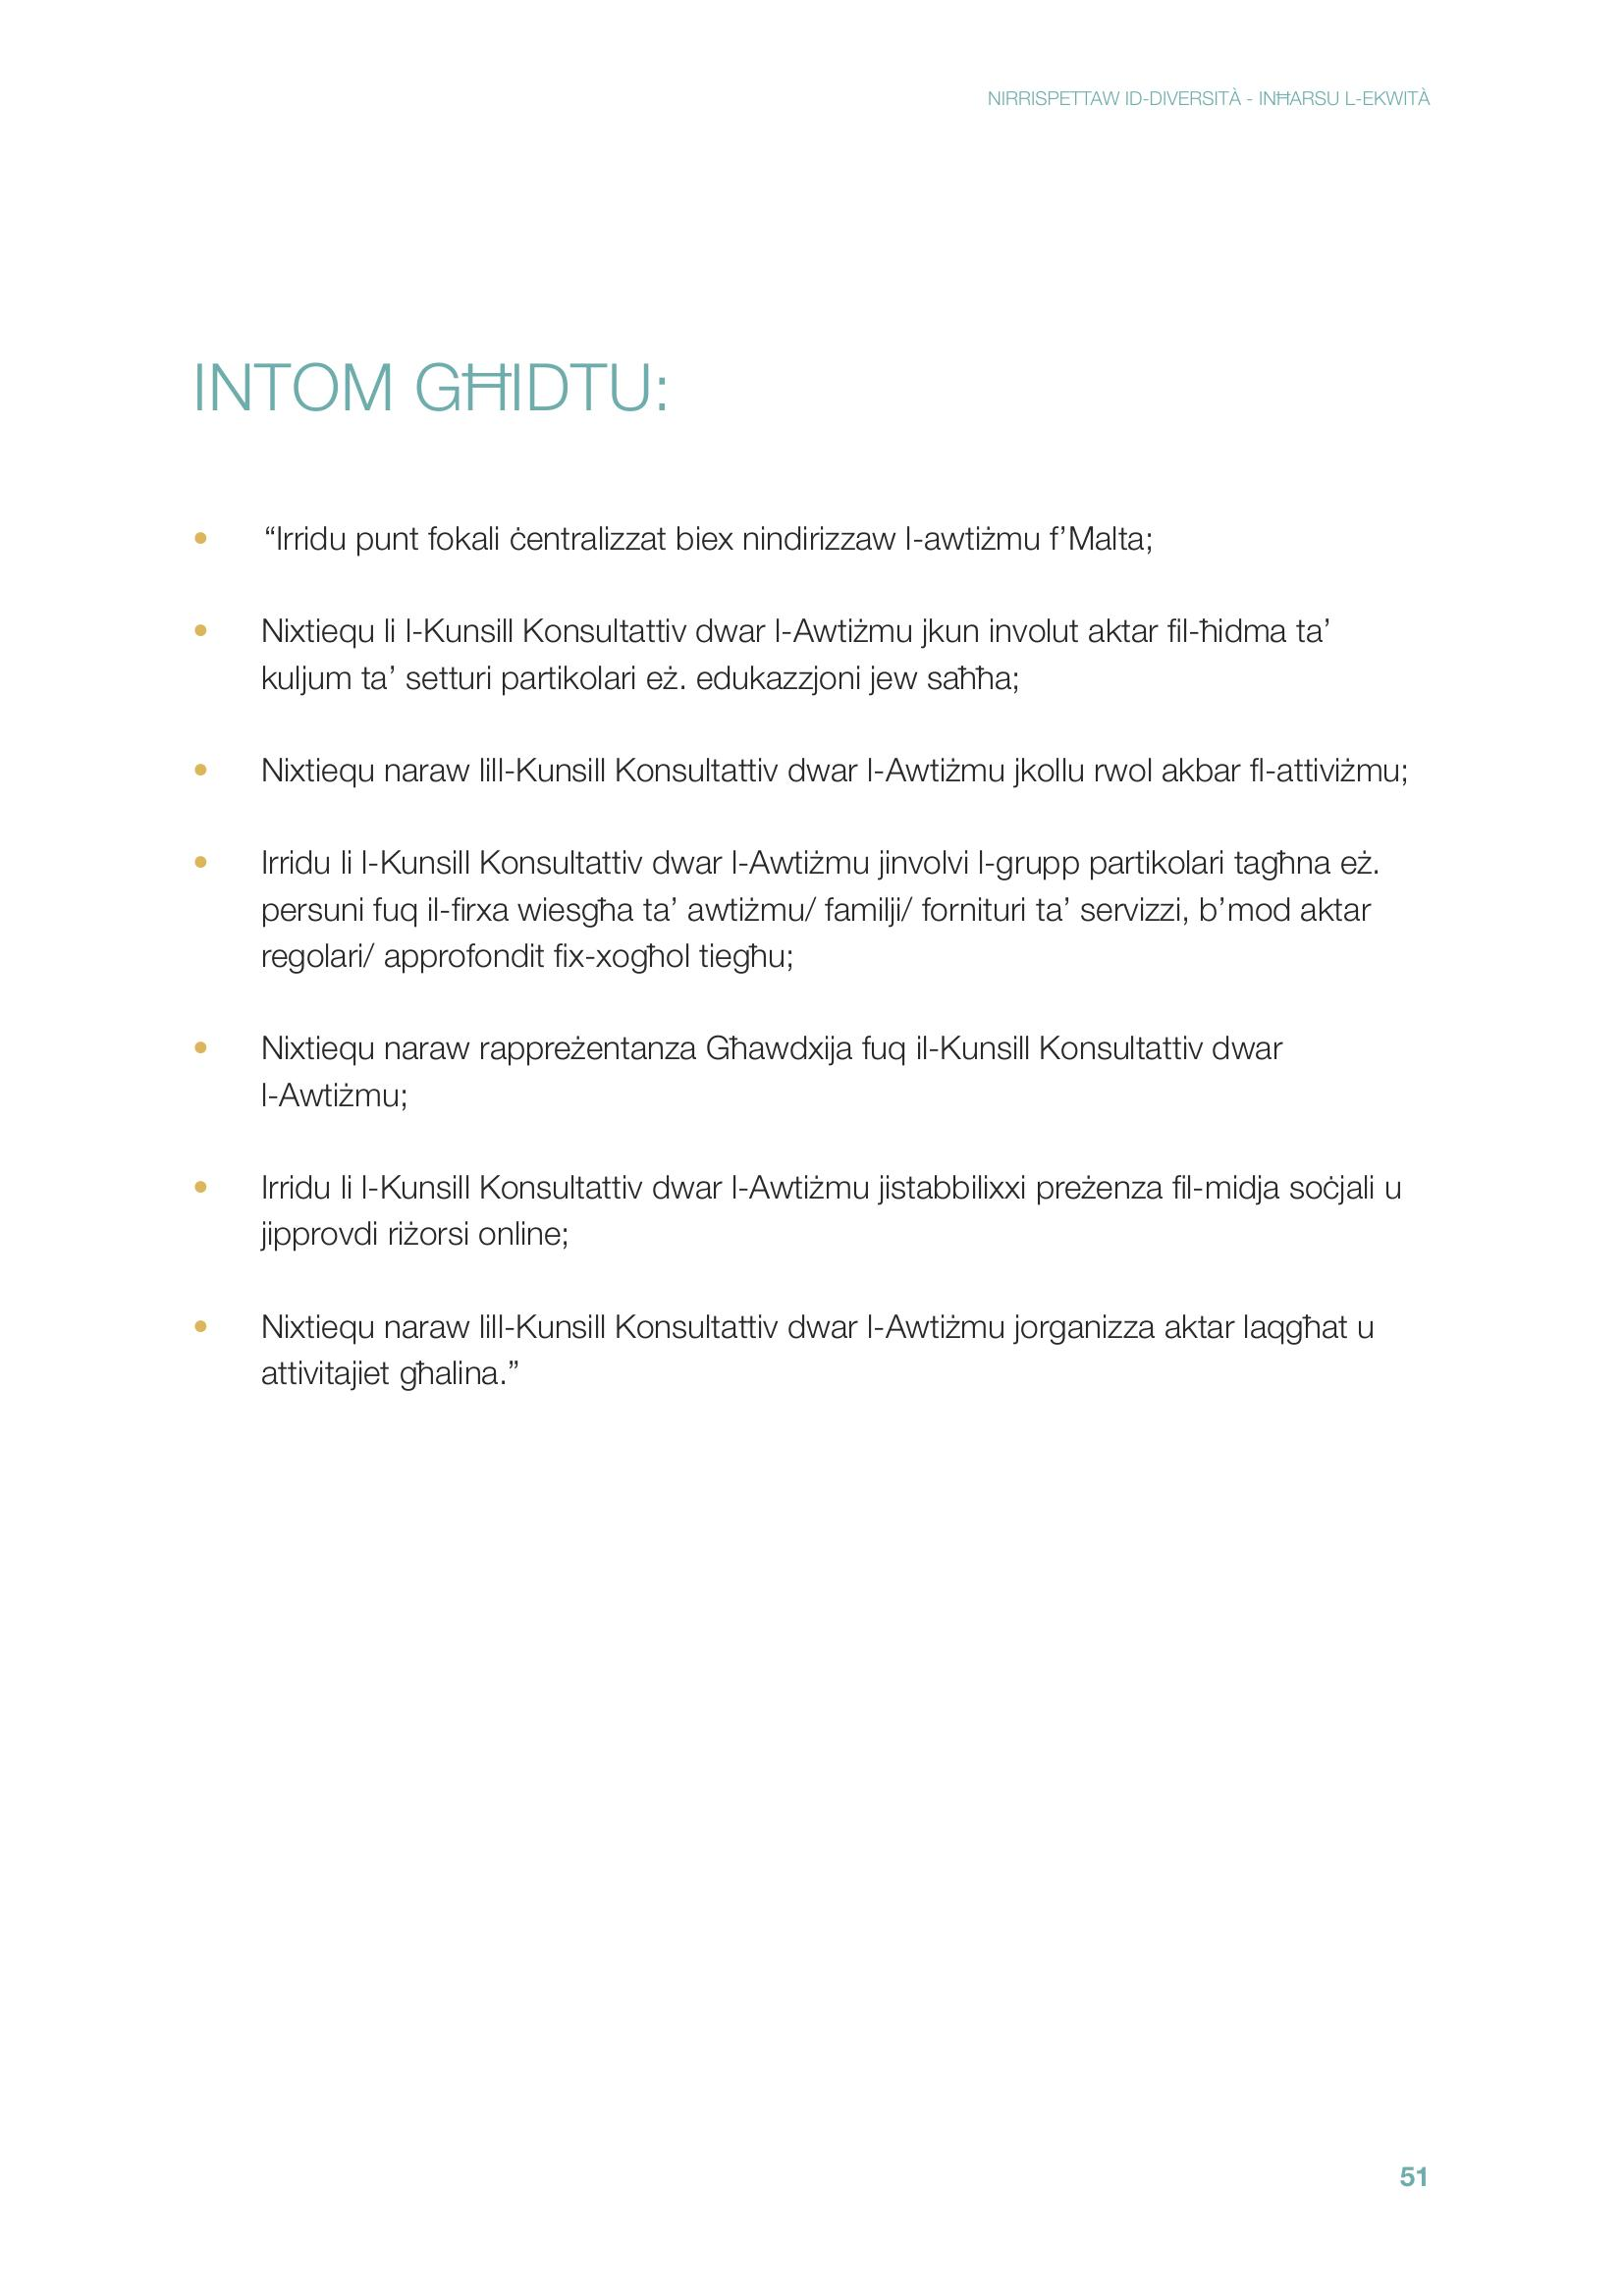text: (160, 334, 1429, 1430)
